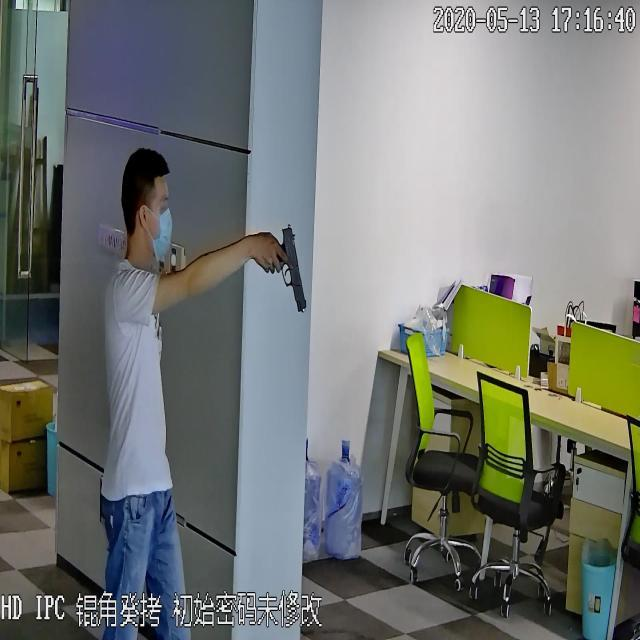gun: (263, 217, 308, 321)
